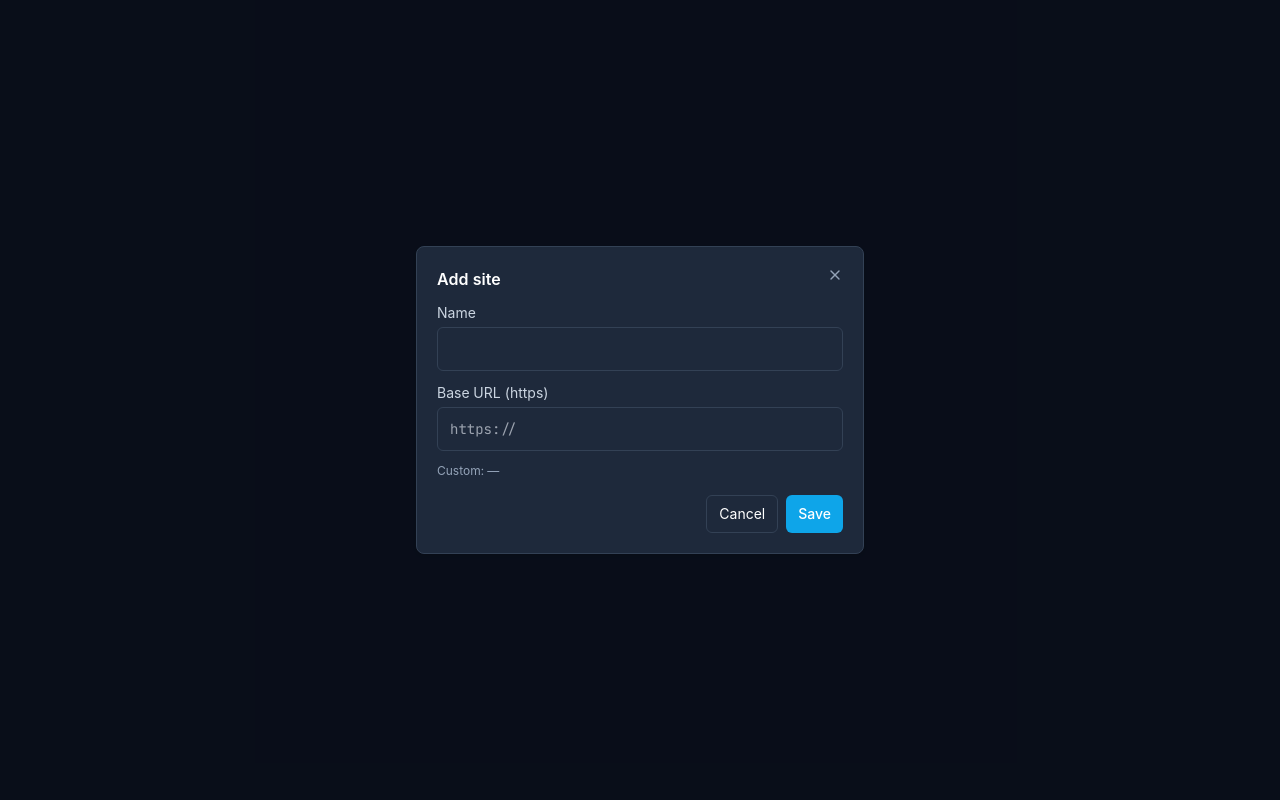
Test case: F78 AddSiteQuick › a userinfo URL is refused (credentials never ride in a URL)
Type "Python docs" into the field with test id "add-site-name" at (640, 349), box [437, 327, 843, 371]
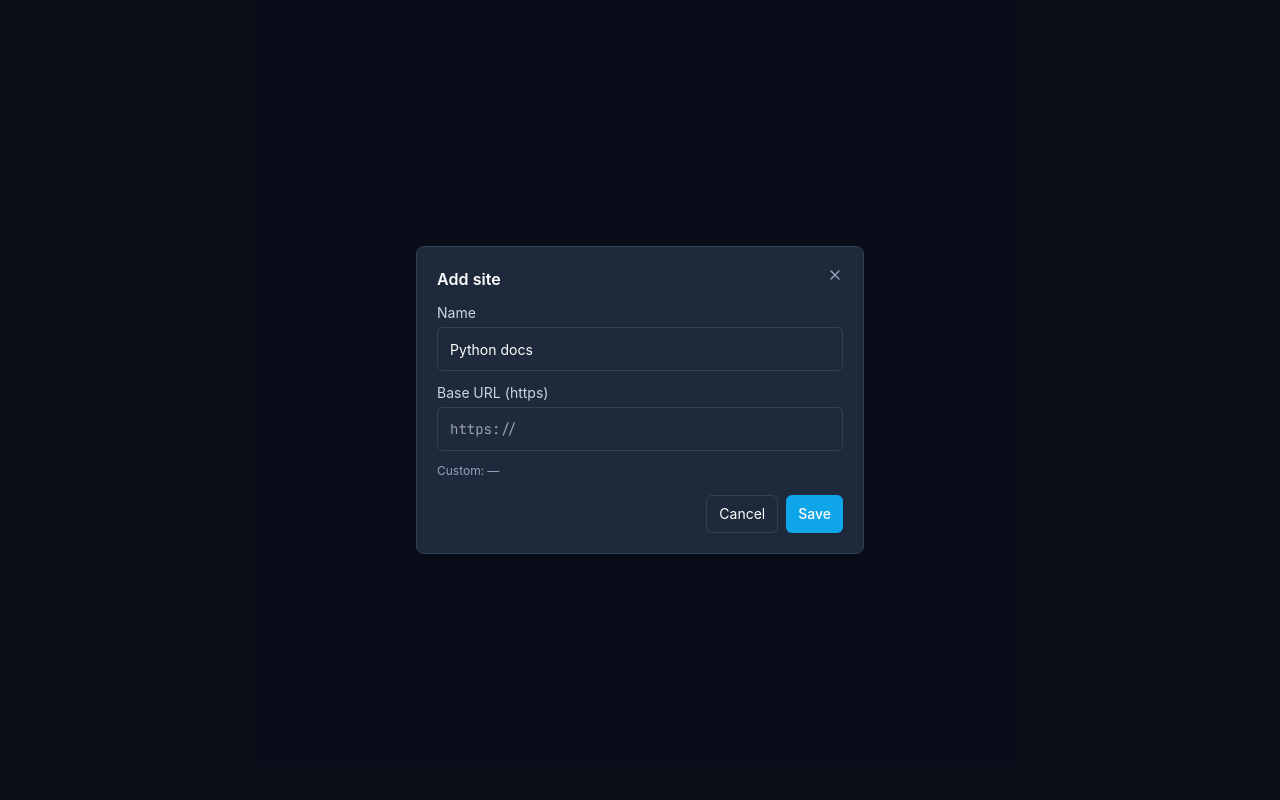
Type "https://user:pass@docs.python.org" into the field with test id "add-site-url" at (640, 429), box [437, 407, 843, 451]
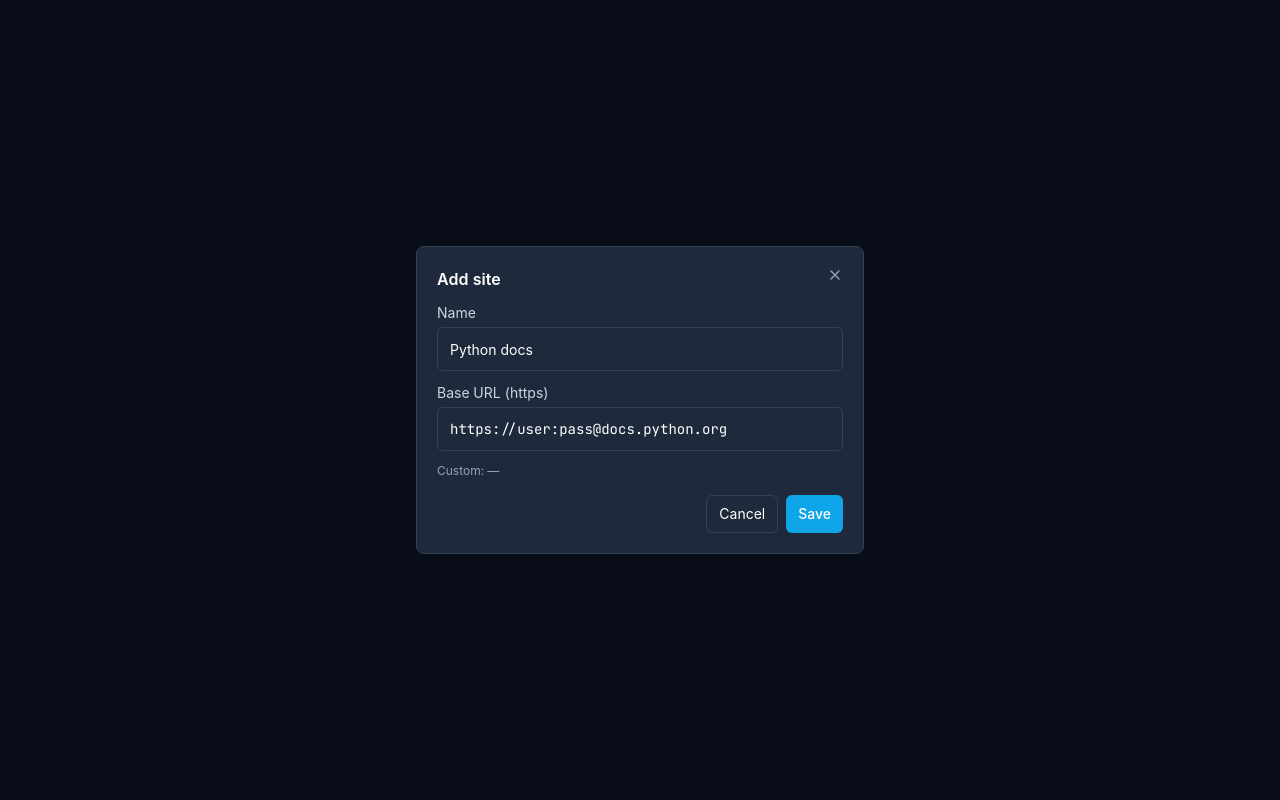
Click the button with test id "add-site-save" at (815, 514), box [786, 495, 843, 533]
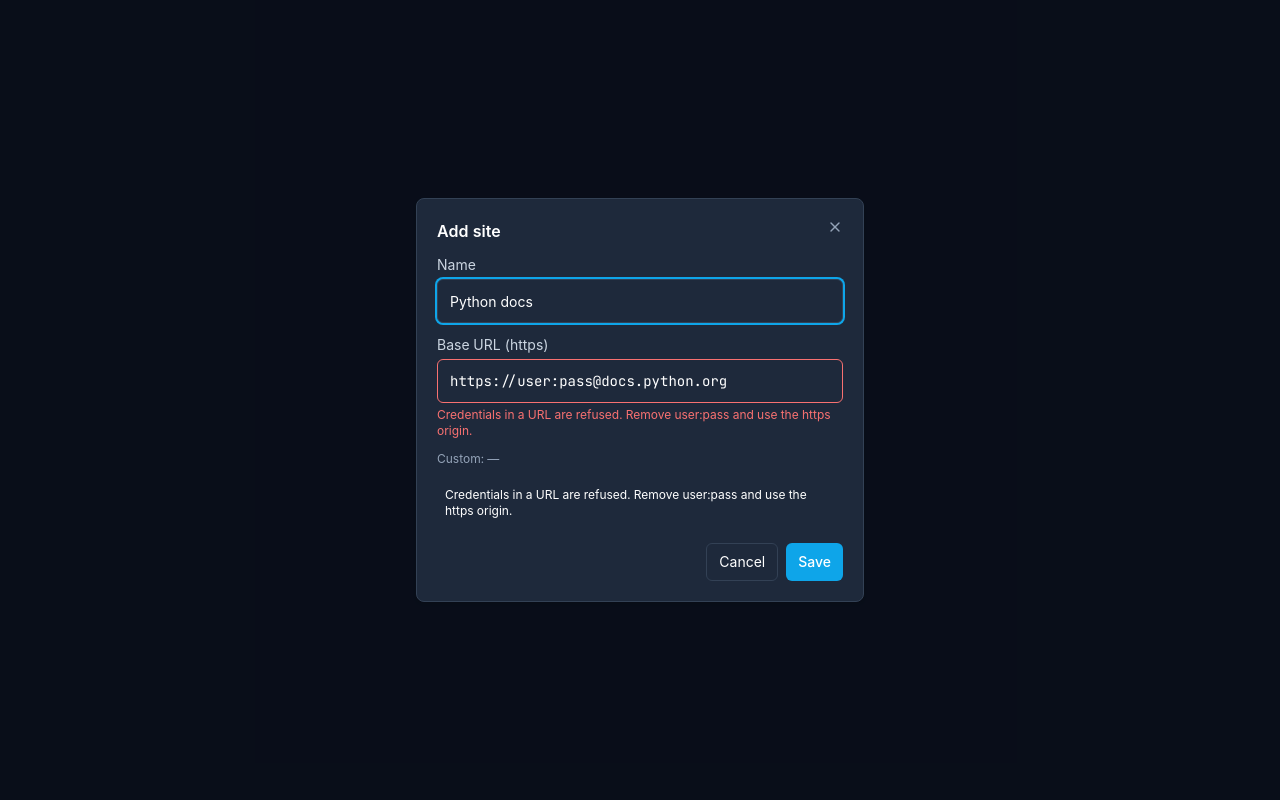
Now the message with test id "add-site-error" is shown, box [437, 479, 843, 527]
